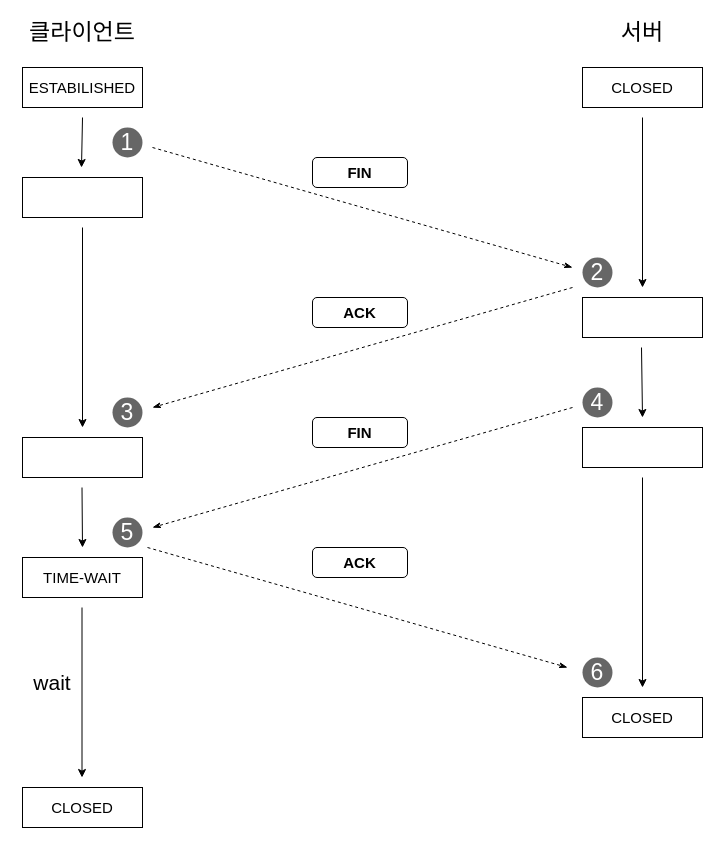
This 724x845 diagram has some shape labels left out. Each missing label, with the centre of its shape:
"CLOSE-WAIT" goes at [642,317].
"FIN-WAIT-1" goes at [82,197].
"FIN-WAIT-2" goes at [82,457].
"LAST-ACK" goes at [642,447].
